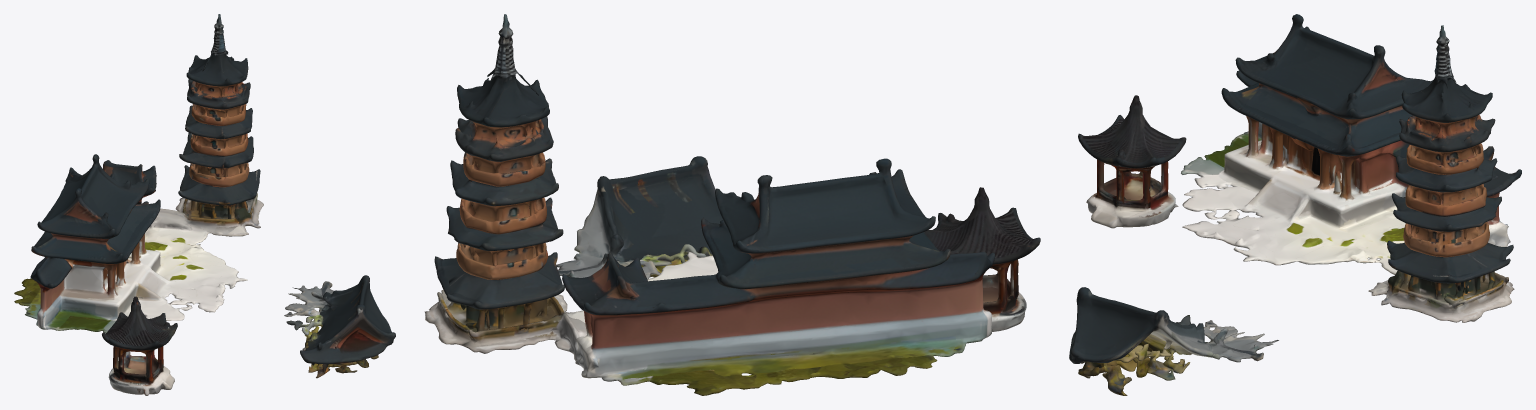
3 views of the same model, side by side, from view 1: azimuth 30°, elevation 25°; view 2: azimuth 150°, elevation 25°; view 3: azimuth 270°, elevation 25° (orthographic). The views are drawn at different scales.
Visible parts, largest first — view 1: material.001; view 2: material.001; view 3: material.001.
Part boxes in pixels (<box>): material.001: <box>14,14,395,395</box>; material.001: <box>424,14,1040,395</box>; material.001: <box>1069,14,1521,395</box>.
Size of the model in its own units: 0.7964 by 0.6842 by 0.792.
1 material, 1 textured.
